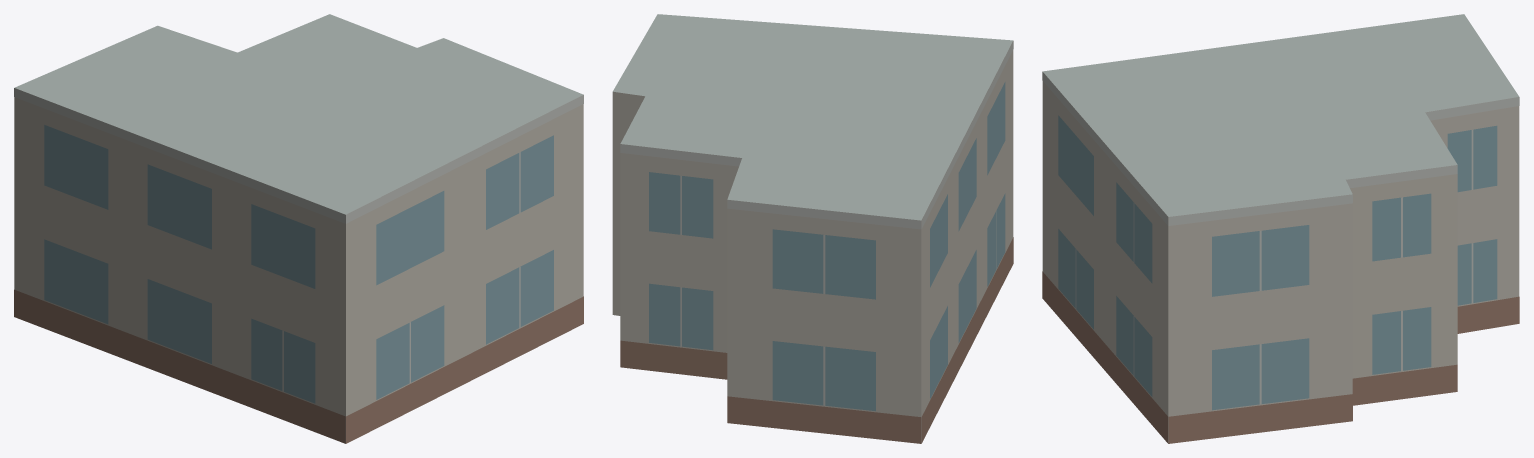
The model's file is survey-upis-32930497.glb.
3 views of the same model, side by side, from view 1: azimuth 30°, elevation 25°; view 2: azimuth 150°, elevation 25°; view 3: azimuth 270°, elevation 25° (orthographic). The views are drawn at different scales.
Parts seen in each view (by area): view 1: survey-upis-32930497.tmp; view 2: survey-upis-32930497.tmp; view 3: survey-upis-32930497.tmp.
Boxes of the visible parts, box(x1,y1,x2,y2) form: survey-upis-32930497.tmp: box(14, 14, 583, 443); survey-upis-32930497.tmp: box(612, 14, 1013, 443); survey-upis-32930497.tmp: box(1042, 14, 1519, 443).
Size of the model in its own units: 11.72 by 6.1 by 11.64.
